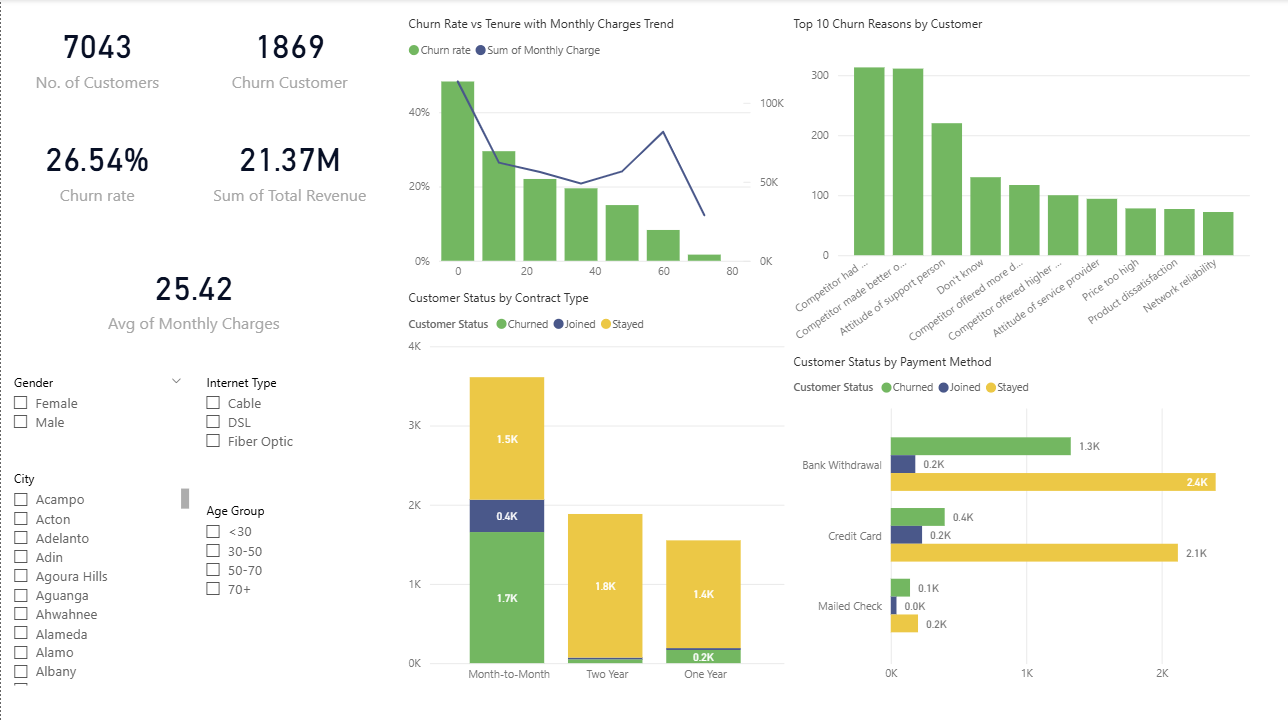

The page's visual inventory and layout, read from the dashboard file:
{"tool":"powerbi","page":{"name":"Page 1","canvas":[1280,720],"ordinal":0},"visuals":[{"type":"card","fields":{"Values":["Count(customer_churn_cleaned.Customer ID)"]},"box":[0,0,192,112],"z":1000},{"type":"card","fields":{"Values":["customer_churn_cleaned.Churn_customer"]},"box":[192,0,192,112],"z":2000},{"type":"card","fields":{"Values":["customer_churn_cleaned.Churn rate"]},"box":[0,112,192,112],"z":3000},{"type":"card","fields":{"Values":["Sum(customer_churn_cleaned.Total Revenue)"]},"box":[192,112,192,112],"z":4000},{"type":"card","fields":{"Values":["Avg(customer_churn_cleaned.Avg Monthly Long Distance Charges)"]},"box":[0,240,384,112],"z":5000},{"type":"clusteredColumnChart","title":"Top 10 Churn Reasons by Customer","fields":{"Category":["customer_churn_cleaned.Churn Reason"],"Y":["CountNonNull(customer_churn_cleaned.Customer ID)"]},"box":[784,16,464,336],"z":6000},{"type":"slicer","fields":{"Values":["customer_churn_cleaned.Gender"]},"box":[0,368,192,96],"z":7000},{"type":"slicer","fields":{"Values":["customer_churn_cleaned.City"]},"box":[0,464,192,224],"z":8000},{"type":"slicer","fields":{"Values":["customer_churn_cleaned.Internet Type"]},"box":[192,368,192,128],"z":9000},{"type":"columnChart","title":"Customer Status by Contract Type","fields":{"Category":["customer_churn_cleaned.Contract"],"Y":["CountNonNull(customer_churn_cleaned.Customer ID)"],"Series":["customer_churn_cleaned.Customer Status"]},"box":[400,288,384,400],"z":10000},{"type":"slicer","fields":{"Values":["customer_churn_cleaned.Age Group"]},"box":[192,496,192,192],"z":11000},{"type":"lineClusteredColumnComboChart","title":"Churn Rate vs Tenure with Monthly Charges Trend","fields":{"Category":["customer_churn_cleaned.Tenure in Months (bins)"],"Y":["customer_churn_cleaned.Churn rate"],"Y2":["Sum(customer_churn_cleaned.Monthly Charge)"]},"box":[400,16,384,272],"z":13000},{"type":"clusteredBarChart","title":"Customer Status by Payment Method","fields":{"Category":["customer_churn_cleaned.Payment Method"],"Series":["customer_churn_cleaned.Customer Status"],"Y":["CountNonNull(customer_churn_cleaned.Customer ID)"]},"box":[784,352,464,336],"z":14000}]}

Visuals, with their boxes in screenshot pixels (x1, y1, x2, y2), scaled from the page's 1280x720 canvas onto the 1288x722 screenshot:
card - Count(customer_churn_cleaned.Customer ID): pyautogui.locateOnScreen(0, 0, 193, 112)
card - customer_churn_cleaned.Churn_customer: pyautogui.locateOnScreen(193, 0, 386, 112)
card - customer_churn_cleaned.Churn rate: pyautogui.locateOnScreen(0, 112, 193, 225)
card - Sum(customer_churn_cleaned.Total Revenue): pyautogui.locateOnScreen(193, 112, 386, 225)
card - Avg(customer_churn_cleaned.Avg Monthly Long Distance Charges): pyautogui.locateOnScreen(0, 241, 386, 353)
"Top 10 Churn Reasons by Customer" clusteredColumnChart: pyautogui.locateOnScreen(789, 16, 1256, 353)
slicer - customer_churn_cleaned.Gender: pyautogui.locateOnScreen(0, 369, 193, 465)
slicer - customer_churn_cleaned.City: pyautogui.locateOnScreen(0, 465, 193, 690)
slicer - customer_churn_cleaned.Internet Type: pyautogui.locateOnScreen(193, 369, 386, 497)
"Customer Status by Contract Type" columnChart: pyautogui.locateOnScreen(403, 289, 789, 690)
slicer - customer_churn_cleaned.Age Group: pyautogui.locateOnScreen(193, 497, 386, 690)
"Churn Rate vs Tenure with Monthly Charges Trend" lineClusteredColumnComboChart: pyautogui.locateOnScreen(403, 16, 789, 289)
"Customer Status by Payment Method" clusteredBarChart: pyautogui.locateOnScreen(789, 353, 1256, 690)
